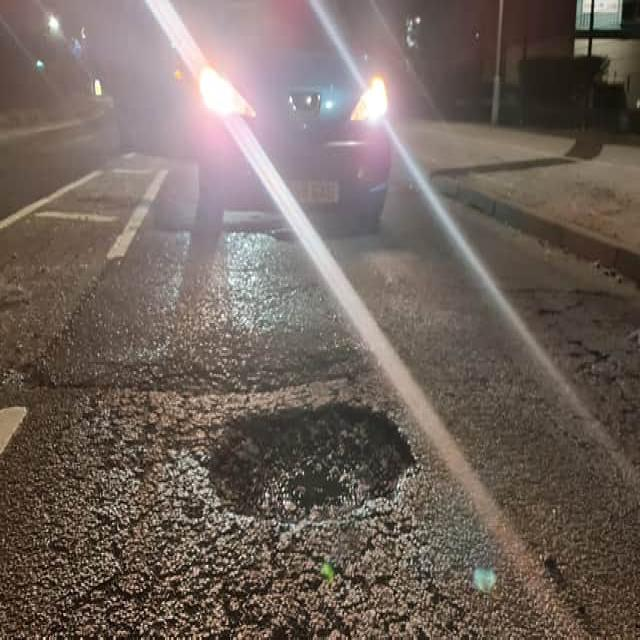Pothole: (208, 404, 414, 521)
